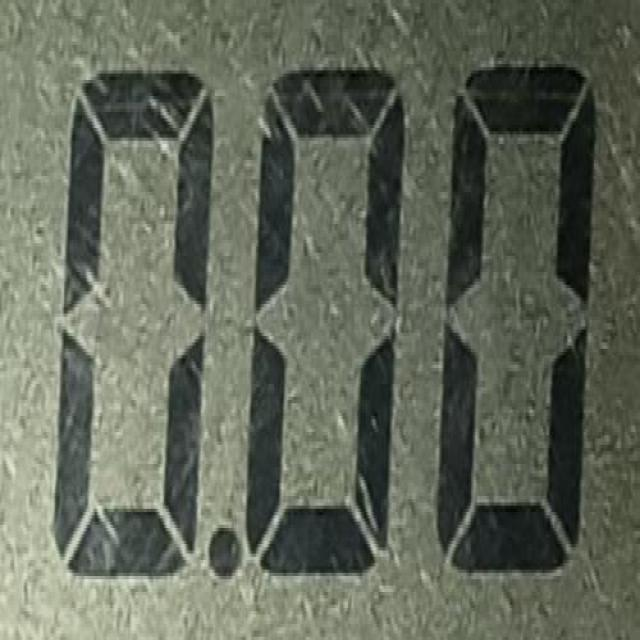.: (204, 507, 245, 601)
0: (245, 19, 424, 596), (51, 21, 215, 610), (444, 42, 601, 608)
